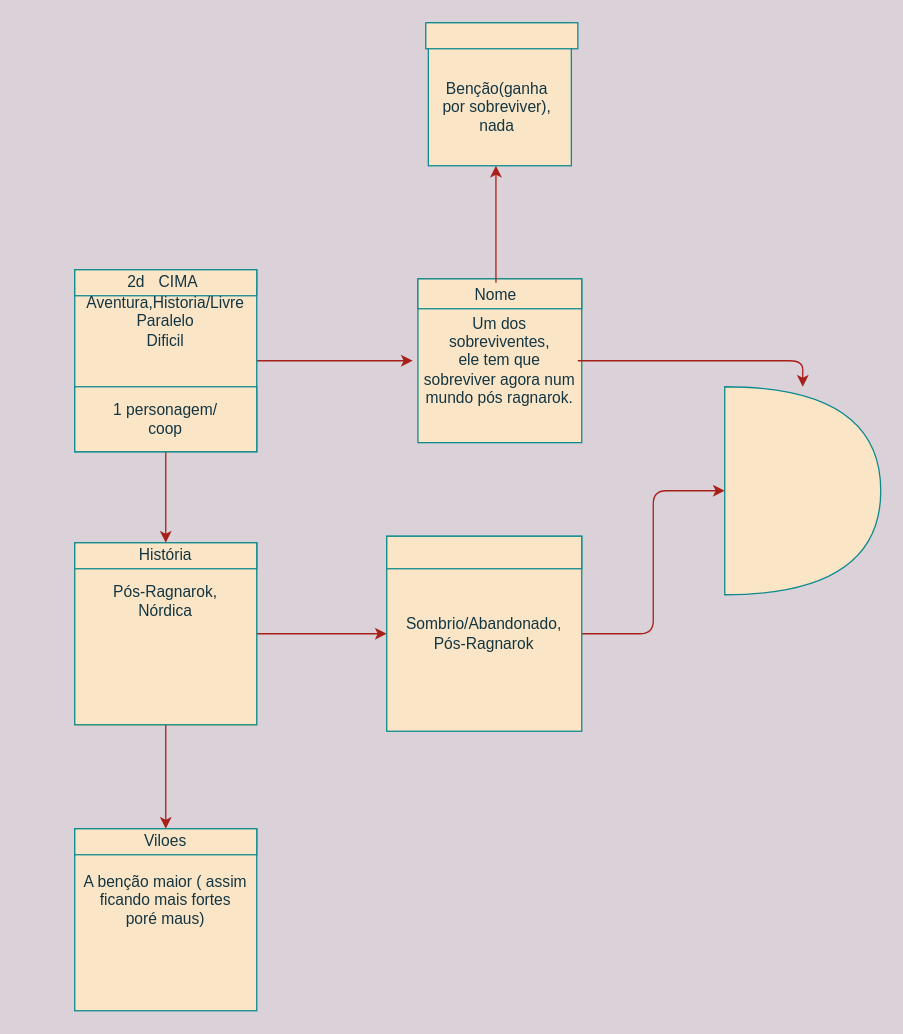
Image size: 903x1034. Some labels were removed from this diagram. The centre of each missing label's shape, as x and y in pixels:
"Coleta" belongs at pixel 802 490.
"Mapa" belongs at pixel 483 552.
"Poderes" belongs at pixel 501 35.
